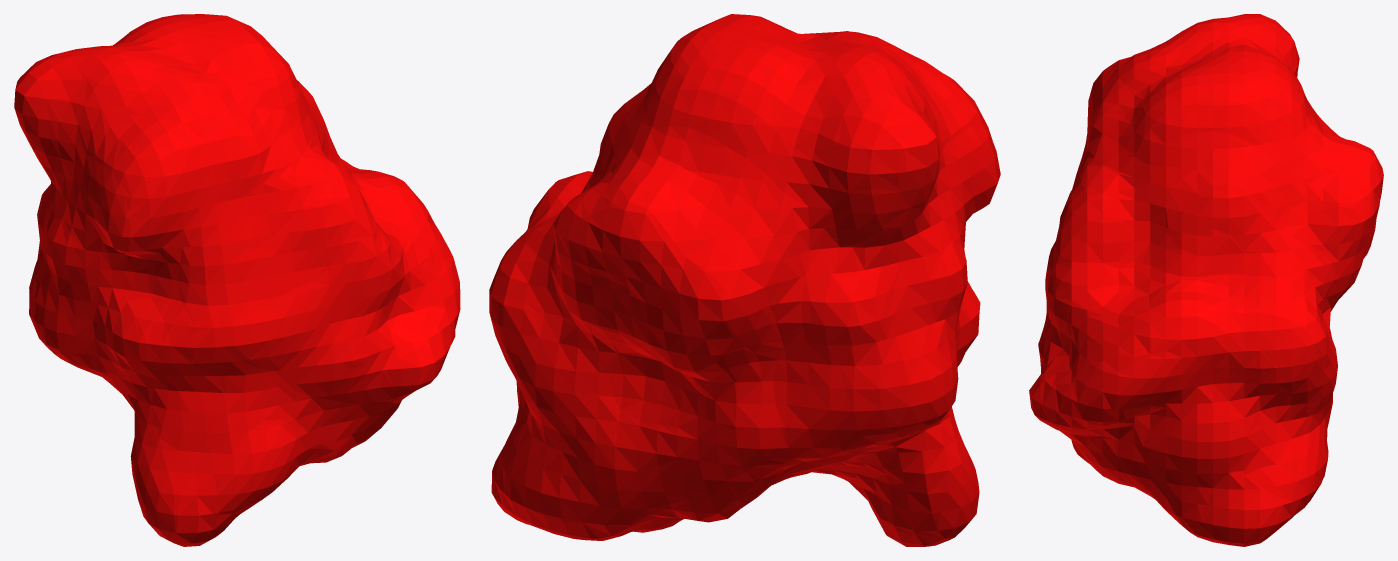
The model's file is rfbB_coarse.dae.
3 views of the same model, side by side, from view 1: azimuth 30°, elevation 25°; view 2: azimuth 150°, elevation 25°; view 3: azimuth 270°, elevation 25° (orthographic). The views are drawn at different scales.
Visible parts, largest first — view 1: rfbB; view 2: rfbB; view 3: rfbB.
Boxes of the visible parts, x1,y1,x2,y2 form: rfbB: (14,14,460,546); rfbB: (489,14,1000,546); rfbB: (1029,14,1383,546).
Bounding box in the file's own units: 53.56 × 62.39 × 47.49.
